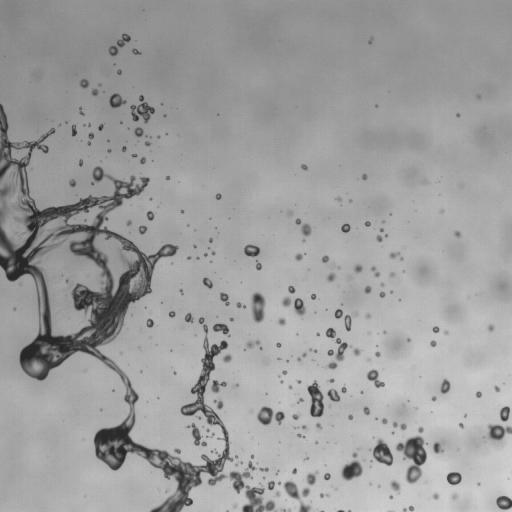droplet: (395, 435, 428, 484), (367, 437, 394, 466), (340, 447, 363, 481), (483, 423, 511, 449), (129, 94, 154, 123), (279, 296, 306, 317), (256, 406, 285, 425), (366, 368, 385, 388), (109, 93, 126, 108), (326, 388, 341, 402), (496, 496, 511, 510), (244, 244, 260, 257), (210, 380, 226, 393), (446, 472, 461, 485), (499, 406, 510, 421), (440, 378, 450, 394), (432, 441, 444, 453), (219, 292, 229, 306), (390, 480, 400, 494), (389, 251, 403, 260), (119, 104, 130, 115), (73, 115, 84, 126), (76, 126, 87, 137), (6, 130, 17, 141), (136, 145, 147, 156), (82, 164, 93, 175), (70, 167, 81, 178), (90, 186, 101, 197), (61, 195, 72, 206), (367, 225, 378, 236), (131, 234, 142, 245), (142, 244, 153, 255), (319, 263, 330, 274), (360, 268, 371, 279), (20, 272, 31, 283), (368, 277, 379, 288), (209, 286, 220, 297), (261, 303, 272, 314), (242, 307, 253, 318), (333, 319, 344, 330), (334, 326, 345, 337), (112, 332, 123, 343), (211, 332, 222, 343), (23, 333, 34, 344), (263, 339, 274, 350), (362, 346, 373, 357), (72, 349, 83, 360), (369, 358, 380, 369), (192, 363, 203, 374), (116, 384, 127, 395), (202, 389, 213, 400), (300, 411, 311, 422), (107, 417, 118, 428), (196, 417, 207, 428), (306, 427, 317, 438), (405, 427, 416, 438), (398, 431, 409, 442), (301, 438, 312, 449), (391, 449, 402, 460), (124, 451, 135, 462), (222, 461, 233, 472), (331, 467, 342, 478), (167, 476, 178, 487), (222, 476, 233, 487), (295, 478, 306, 489), (187, 486, 198, 497), (260, 491, 271, 502), (288, 498, 299, 509), (202, 277, 212, 289), (213, 397, 223, 409), (370, 266, 380, 277), (326, 271, 336, 282), (184, 312, 193, 324), (79, 78, 89, 88), (341, 223, 351, 233), (294, 253, 306, 261), (222, 353, 232, 362), (146, 211, 155, 220), (138, 225, 147, 234), (277, 317, 286, 326), (29, 132, 38, 141), (7, 164, 16, 173), (105, 187, 114, 196), (35, 201, 44, 210), (371, 220, 380, 229), (361, 265, 370, 274), (370, 286, 379, 295), (243, 296, 252, 305), (302, 297, 311, 306), (175, 311, 184, 320), (96, 343, 105, 352), (343, 347, 352, 356), (212, 354, 221, 363), (326, 368, 335, 377), (208, 370, 217, 379), (318, 384, 327, 393), (321, 395, 330, 404), (283, 413, 292, 422), (211, 424, 220, 433), (127, 429, 136, 438), (216, 441, 225, 450), (423, 444, 432, 453), (196, 445, 205, 454), (200, 445, 209, 454), (179, 453, 188, 462), (343, 455, 352, 464), (236, 464, 245, 473), (200, 471, 209, 480), (265, 471, 274, 480), (284, 472, 293, 481), (314, 474, 323, 483), (397, 475, 406, 484), (275, 483, 284, 492), (301, 496, 310, 505), (273, 500, 282, 509), (236, 301, 246, 309), (292, 412, 302, 420), (321, 255, 329, 264), (354, 264, 362, 273), (146, 318, 154, 327), (315, 422, 322, 432), (256, 259, 262, 270), (505, 416, 511, 427), (179, 505, 190, 511), (273, 489, 281, 497), (363, 406, 370, 415), (131, 48, 141, 54), (69, 179, 76, 187), (376, 234, 383, 242), (288, 285, 295, 293), (364, 285, 371, 293), (168, 310, 175, 318), (487, 324, 494, 332), (323, 472, 330, 480), (0, 267, 5, 278), (91, 88, 98, 95), (97, 123, 104, 130), (432, 326, 439, 333), (475, 391, 482, 398), (432, 492, 439, 499), (451, 493, 458, 500), (85, 85, 92, 92), (133, 98, 140, 105), (81, 115, 88, 122), (90, 125, 97, 132), (138, 135, 145, 142), (125, 147, 132, 154), (341, 194, 348, 201), (70, 197, 77, 204), (341, 198, 348, 205), (114, 205, 121, 212), (142, 218, 149, 225), (308, 221, 315, 228), (309, 227, 316, 234), (296, 231, 303, 238), (190, 249, 197, 256), (248, 255, 255, 262), (158, 256, 165, 263), (352, 258, 359, 265), (347, 266, 354, 273), (394, 269, 401, 276), (150, 273, 157, 280), (207, 274, 214, 281), (149, 279, 156, 286), (259, 289, 266, 296), (289, 292, 296, 299), (139, 295, 146, 302), (276, 295, 283, 302), (127, 301, 134, 308), (358, 310, 365, 317), (191, 313, 198, 320), (222, 318, 229, 325), (225, 320, 232, 327), (430, 332, 437, 339), (249, 334, 256, 341), (331, 343, 338, 350), (219, 348, 226, 355), (198, 350, 205, 357), (13, 351, 20, 358), (306, 351, 313, 358), (358, 352, 365, 359), (329, 354, 336, 361), (93, 357, 100, 364), (289, 357, 296, 364), (280, 362, 287, 369), (118, 363, 125, 370), (48, 367, 55, 374), (376, 374, 383, 381), (191, 375, 198, 382), (205, 381, 212, 388), (327, 382, 334, 389), (434, 389, 441, 396), (190, 393, 197, 400), (304, 393, 311, 400), (210, 403, 217, 410), (253, 406, 260, 413), (195, 409, 202, 416), (187, 414, 194, 421), (312, 415, 319, 422), (295, 418, 302, 425), (500, 420, 507, 427), (385, 421, 392, 428), (92, 425, 99, 432), (482, 427, 489, 434), (198, 428, 205, 435), (88, 431, 95, 438), (503, 432, 510, 439), (370, 440, 377, 447), (145, 442, 152, 449), (88, 443, 95, 450), (216, 446, 223, 453), (389, 446, 396, 453), (167, 448, 174, 455), (366, 451, 373, 458), (209, 453, 216, 460), (354, 455, 361, 462), (141, 458, 148, 465), (407, 458, 414, 465), (97, 459, 104, 466), (359, 461, 366, 468), (418, 463, 425, 470), (156, 468, 163, 475), (400, 468, 407, 475), (350, 475, 357, 482), (241, 476, 248, 483), (416, 477, 423, 484), (307, 483, 314, 490), (239, 486, 246, 493), (296, 486, 303, 493), (387, 487, 394, 494), (242, 497, 249, 504), (153, 500, 160, 507), (140, 156, 146, 164), (300, 164, 308, 170), (334, 195, 342, 201), (291, 506, 300, 511), (286, 210, 293, 216), (126, 219, 132, 226), (454, 231, 461, 237), (379, 291, 385, 298), (430, 340, 436, 347), (327, 349, 333, 356), (494, 385, 500, 392), (381, 417, 387, 424), (458, 422, 464, 429), (78, 158, 83, 166), (326, 378, 334, 383), (422, 179, 428, 185), (215, 193, 221, 199), (310, 293, 316, 299), (365, 313, 371, 319), (443, 329, 449, 335), (374, 351, 380, 357), (174, 448, 180, 454), (291, 468, 297, 474), (88, 132, 93, 139), (144, 141, 151, 146), (362, 173, 367, 180), (348, 413, 353, 420), (418, 426, 423, 433), (232, 502, 237, 509), (121, 146, 126, 152), (364, 221, 370, 226), (389, 272, 395, 277), (282, 369, 287, 375), (235, 507, 242, 511), (439, 208, 444, 213), (380, 282, 385, 287), (406, 337, 411, 342), (276, 342, 281, 347), (366, 357, 371, 362), (431, 396, 436, 401), (127, 31, 132, 36), (105, 52, 110, 57), (112, 54, 117, 59), (113, 65, 118, 70), (79, 74, 84, 79), (83, 74, 88, 79), (78, 86, 83, 91), (96, 86, 101, 91), (106, 92, 111, 97), (90, 94, 95, 99), (105, 101, 110, 106), (147, 101, 152, 106), (119, 103, 124, 108), (2, 106, 7, 111), (113, 106, 118, 111), (153, 106, 158, 111), (126, 107, 131, 112), (149, 113, 154, 118), (137, 114, 142, 119), (6, 118, 11, 123), (75, 126, 80, 131), (129, 128, 134, 133), (41, 129, 46, 134), (67, 129, 72, 134), (142, 129, 147, 134), (159, 132, 164, 137), (133, 135, 138, 140), (84, 136, 89, 141), (144, 136, 149, 141), (106, 143, 111, 148), (32, 146, 37, 151), (136, 154, 141, 159), (145, 157, 150, 162), (95, 161, 100, 166), (296, 161, 301, 166), (98, 162, 103, 167), (24, 165, 29, 170), (102, 168, 107, 173), (299, 168, 304, 173), (357, 172, 362, 177), (366, 174, 371, 179), (89, 176, 94, 181), (101, 176, 106, 181), (125, 177, 130, 182), (137, 180, 142, 185), (64, 181, 69, 186), (146, 181, 151, 186), (74, 183, 79, 188), (143, 185, 148, 190), (139, 190, 144, 195), (81, 194, 86, 199), (131, 194, 136, 199), (121, 197, 126, 202), (53, 202, 58, 207), (150, 207, 155, 212), (105, 212, 110, 217), (291, 215, 296, 220), (384, 215, 389, 220), (122, 218, 127, 223), (300, 219, 305, 224), (297, 223, 302, 228), (380, 223, 385, 228), (98, 224, 103, 229), (106, 225, 111, 230), (188, 225, 193, 230), (456, 226, 461, 231), (383, 228, 388, 233), (459, 229, 464, 234), (379, 231, 384, 236), (121, 232, 126, 237), (304, 235, 309, 240), (452, 235, 457, 240), (381, 236, 386, 241), (163, 239, 168, 244), (170, 240, 175, 245), (243, 240, 248, 245), (374, 240, 379, 245), (253, 241, 258, 246), (208, 242, 213, 247), (138, 246, 143, 251), (391, 247, 396, 252), (175, 248, 180, 253), (239, 248, 244, 253), (151, 249, 156, 254), (206, 249, 211, 254), (384, 251, 389, 256), (399, 251, 404, 256), (207, 253, 212, 258), (199, 254, 204, 259), (254, 254, 259, 259), (290, 254, 295, 259), (317, 254, 322, 259), (190, 255, 195, 260), (301, 255, 306, 260), (394, 255, 399, 260), (298, 258, 303, 263), (317, 258, 322, 263), (327, 258, 332, 263), (154, 261, 159, 266), (320, 261, 325, 266), (350, 263, 355, 268), (375, 266, 380, 271), (332, 268, 337, 273), (369, 270, 374, 275), (356, 271, 361, 276), (329, 280, 334, 285), (202, 284, 207, 289), (360, 285, 365, 290), (379, 286, 384, 291), (222, 288, 227, 293), (384, 290, 389, 295), (144, 292, 149, 297), (215, 293, 220, 298), (381, 296, 386, 301), (289, 302, 294, 307), (369, 310, 374, 315), (301, 313, 306, 318), (339, 315, 344, 320), (273, 316, 278, 321), (367, 317, 372, 322), (216, 318, 221, 323), (490, 320, 495, 325), (483, 322, 488, 327), (276, 323, 281, 328), (279, 324, 284, 329), (349, 324, 354, 329), (207, 326, 212, 331), (492, 327, 497, 332), (438, 328, 443, 333), (484, 328, 489, 333), (217, 329, 222, 334), (199, 336, 204, 341), (331, 336, 336, 341), (207, 341, 212, 346), (215, 341, 220, 346), (425, 341, 430, 346), (95, 344, 100, 349), (253, 344, 258, 349), (356, 344, 361, 349), (375, 346, 380, 351), (246, 347, 251, 352), (303, 347, 308, 352), (332, 349, 337, 354), (292, 354, 297, 359), (371, 354, 376, 359), (280, 358, 285, 363), (62, 359, 67, 364), (224, 361, 229, 366), (373, 365, 378, 370), (366, 366, 371, 371), (108, 368, 113, 373), (20, 370, 25, 375), (115, 374, 120, 379), (280, 374, 285, 379), (363, 376, 368, 381), (446, 376, 451, 381), (32, 377, 37, 382), (438, 378, 443, 383), (369, 379, 374, 384), (307, 380, 312, 385), (282, 381, 287, 386), (292, 381, 297, 386), (225, 382, 230, 387), (496, 382, 501, 387), (130, 383, 135, 388), (449, 383, 454, 388), (218, 385, 223, 390), (134, 388, 139, 393), (447, 388, 452, 393), (337, 390, 342, 395), (471, 393, 476, 398), (480, 393, 485, 398), (134, 400, 139, 405), (124, 402, 129, 407), (265, 402, 270, 407), (500, 402, 505, 407), (221, 404, 226, 409), (305, 406, 310, 411), (368, 406, 373, 411), (322, 407, 327, 412), (214, 408, 219, 413), (495, 408, 500, 413), (271, 409, 276, 414), (359, 410, 364, 415), (201, 415, 206, 420), (343, 415, 348, 420), (134, 416, 139, 421), (270, 416, 275, 421), (377, 416, 382, 421), (280, 418, 285, 423), (387, 419, 392, 424), (396, 420, 401, 425), (257, 421, 262, 426), (204, 422, 209, 427), (264, 423, 269, 428), (224, 425, 229, 430), (395, 425, 400, 430), (455, 425, 460, 430), (188, 426, 193, 431), (298, 428, 303, 433), (219, 432, 224, 437), (418, 432, 423, 437), (189, 436, 194, 441), (227, 436, 232, 441), (198, 437, 203, 442), (434, 437, 439, 442), (220, 439, 225, 444), (421, 443, 426, 448), (438, 443, 443, 448), (176, 444, 181, 449), (158, 445, 163, 450), (351, 447, 356, 452), (436, 451, 441, 456), (228, 452, 233, 457), (237, 455, 242, 460), (232, 457, 237, 462), (424, 457, 429, 462), (372, 458, 377, 463), (201, 460, 206, 465), (391, 460, 396, 465), (251, 461, 256, 466), (243, 462, 248, 467), (380, 462, 385, 467), (148, 464, 153, 469), (450, 467, 455, 472), (309, 469, 314, 474), (261, 470, 266, 475), (442, 472, 447, 477), (460, 474, 465, 479), (280, 479, 285, 484), (215, 480, 220, 485), (444, 481, 449, 486), (371, 482, 376, 487), (263, 483, 268, 488), (273, 483, 278, 488), (453, 483, 458, 488), (208, 484, 213, 489), (263, 487, 268, 492), (231, 488, 236, 493), (429, 489, 434, 494), (498, 491, 503, 496), (437, 495, 442, 500), (431, 498, 436, 503), (491, 498, 496, 503), (131, 153, 137, 157), (208, 237, 212, 243), (179, 289, 183, 295), (0, 182, 3, 189), (117, 69, 121, 74), (476, 94, 480, 99), (165, 176, 170, 180), (180, 209, 184, 214), (211, 250, 215, 255), (203, 252, 207, 257), (59, 273, 63, 278), (229, 317, 234, 321), (382, 330, 387, 334), (302, 352, 306, 357), (296, 357, 301, 361), (296, 379, 301, 383), (288, 384, 292, 389), (248, 409, 253, 413), (250, 454, 254, 459), (361, 457, 366, 461), (165, 488, 169, 493), (456, 113, 460, 117), (156, 135, 160, 139), (87, 141, 91, 145), (107, 149, 111, 153), (379, 228, 383, 232), (315, 332, 319, 336), (327, 404, 331, 408), (389, 495, 393, 499), (507, 507, 511, 511), (88, 122, 91, 127), (186, 256, 191, 259), (508, 410, 511, 415), (508, 494, 511, 499), (405, 508, 410, 511), (374, 104, 378, 107), (348, 199, 352, 202), (381, 220, 385, 223), (193, 244, 196, 248), (402, 269, 405, 273), (13, 307, 16, 311), (277, 357, 281, 360), (286, 359, 289, 363), (173, 371, 176, 375), (277, 374, 281, 377), (360, 390, 363, 394), (374, 417, 378, 420), (206, 428, 209, 432), (315, 440, 318, 444), (235, 455, 238, 459), (369, 459, 372, 463), (0, 201, 2, 206), (98, 83, 101, 86), (160, 102, 163, 105), (163, 114, 166, 117), (120, 121, 123, 124), (58, 123, 61, 126), (107, 139, 110, 142), (149, 197, 152, 200), (214, 226, 217, 229), (384, 234, 387, 237), (196, 256, 199, 259), (209, 260, 212, 263), (390, 290, 393, 293), (398, 298, 401, 301), (280, 380, 283, 383), (156, 396, 159, 399), (99, 408, 102, 411), (391, 431, 394, 434), (368, 465, 371, 468), (262, 476, 265, 479), (477, 482, 480, 485), (377, 484, 380, 487), (123, 30, 126, 33), (129, 35, 132, 38), (366, 37, 369, 40), (364, 40, 367, 43), (371, 40, 374, 43), (367, 43, 370, 46), (137, 48, 140, 51), (130, 52, 133, 55), (135, 53, 138, 56), (120, 71, 123, 74), (115, 73, 118, 76), (159, 99, 162, 102), (377, 102, 380, 105), (162, 103, 165, 106), (371, 103, 374, 106), (76, 104, 79, 107), (376, 106, 379, 109), (76, 109, 79, 112), (81, 109, 84, 112), (213, 112, 216, 115), (452, 113, 455, 116), (459, 113, 462, 116), (79, 114, 82, 117), (129, 114, 132, 117), (165, 115, 168, 118), (216, 115, 219, 118), (161, 116, 164, 119), (455, 116, 458, 119), (147, 118, 150, 121), (116, 120, 119, 123), (61, 121, 64, 124), (85, 122, 88, 125), (96, 123, 99, 126), (119, 123, 122, 126), (51, 124, 54, 127), (101, 127, 104, 130), (54, 129, 57, 132), (164, 129, 167, 132), (167, 132, 170, 135), (85, 133, 88, 136), (107, 136, 110, 139), (159, 136, 162, 139), (88, 138, 91, 141), (84, 142, 87, 145), (122, 142, 125, 145), (47, 145, 50, 148), (119, 145, 122, 148), (125, 145, 128, 148), (145, 145, 148, 148), (47, 149, 50, 152), (110, 150, 113, 153), (131, 150, 134, 153), (105, 151, 108, 154), (121, 151, 124, 154), (132, 156, 135, 159), (76, 160, 79, 163), (81, 163, 84, 166), (140, 163, 143, 166), (305, 163, 308, 166), (165, 172, 168, 175), (26, 173, 29, 176), (144, 174, 147, 177), (162, 175, 165, 178), (169, 175, 172, 178), (166, 179, 169, 182), (362, 179, 365, 182), (27, 183, 30, 186), (28, 187, 31, 190), (28, 192, 31, 195), (212, 193, 215, 196), (334, 194, 337, 197), (151, 195, 154, 198), (220, 195, 223, 198), (347, 196, 350, 199), (350, 196, 353, 199), (213, 197, 216, 200), (151, 198, 154, 201), (147, 199, 150, 202), (216, 199, 219, 202), (334, 199, 337, 202), (180, 206, 183, 209), (146, 208, 149, 211), (177, 209, 180, 212), (183, 209, 186, 212), (388, 209, 391, 212), (179, 212, 182, 215), (385, 212, 388, 215), (391, 212, 394, 215), (207, 214, 210, 217), (144, 215, 147, 218), (388, 215, 391, 218), (152, 217, 155, 220), (380, 217, 383, 220), (368, 218, 371, 221), (208, 219, 211, 222), (362, 219, 365, 222), (343, 220, 346, 223), (347, 221, 350, 224), (183, 222, 186, 225), (340, 222, 343, 225), (362, 224, 365, 227), (338, 225, 341, 228), (367, 225, 370, 228), (186, 226, 189, 229), (349, 227, 352, 230), (215, 228, 218, 231), (338, 228, 341, 231), (144, 230, 147, 233), (347, 230, 350, 233), (341, 231, 344, 234), (387, 233, 390, 236), (211, 240, 214, 243), (303, 241, 306, 244), (251, 242, 254, 245), (195, 243, 198, 246), (190, 245, 193, 248), (194, 247, 197, 250), (300, 251, 303, 254), (214, 252, 217, 255), (324, 252, 327, 255), (186, 253, 189, 256), (188, 258, 191, 261), (195, 259, 198, 262), (399, 260, 402, 263), (209, 262, 212, 265), (260, 262, 263, 265), (335, 262, 338, 265), (369, 264, 372, 267), (253, 267, 256, 270), (259, 268, 262, 271), (204, 274, 207, 277), (200, 277, 203, 280), (200, 281, 203, 284), (211, 281, 214, 284), (289, 282, 292, 285), (211, 285, 214, 288), (177, 286, 180, 289), (293, 286, 296, 289), (182, 289, 185, 292), (312, 290, 315, 293), (177, 291, 180, 294), (391, 292, 394, 295), (181, 294, 184, 297), (377, 295, 380, 298), (395, 296, 398, 299), (314, 297, 317, 300), (400, 297, 403, 300), (34, 298, 37, 301), (162, 300, 165, 303), (160, 303, 163, 306), (323, 305, 326, 308), (146, 306, 149, 309), (239, 306, 242, 309), (338, 306, 341, 309), (15, 308, 18, 311), (168, 308, 171, 311), (174, 312, 177, 315), (183, 312, 186, 315), (331, 312, 334, 315), (165, 313, 168, 316), (190, 313, 193, 316), (201, 314, 204, 317), (230, 314, 233, 317), (168, 316, 171, 319), (171, 316, 174, 319), (144, 317, 147, 320), (233, 317, 236, 320), (350, 317, 353, 320), (152, 319, 155, 322), (350, 320, 353, 323), (187, 321, 190, 324), (143, 323, 146, 326), (152, 323, 155, 326), (433, 323, 436, 326), (342, 325, 345, 328), (148, 326, 151, 329), (429, 326, 432, 329), (323, 328, 326, 331), (385, 328, 388, 331), (227, 330, 230, 333), (297, 330, 300, 333), (347, 330, 350, 333), (379, 330, 382, 333), (430, 330, 433, 333), (202, 331, 205, 334), (435, 331, 438, 334), (292, 332, 295, 335), (313, 332, 316, 335), (383, 333, 386, 336), (315, 335, 318, 338), (408, 335, 411, 338), (328, 336, 331, 339), (200, 340, 203, 343), (404, 340, 407, 343), (375, 341, 378, 344), (407, 341, 410, 344), (435, 342, 438, 345), (273, 343, 276, 346), (280, 343, 283, 346), (372, 343, 375, 346), (243, 345, 246, 348), (261, 345, 264, 348), (429, 345, 432, 348), (433, 345, 436, 348), (311, 346, 314, 349), (171, 347, 174, 350), (166, 348, 169, 351), (316, 349, 319, 352), (169, 351, 172, 354), (324, 351, 327, 354), (379, 351, 382, 354), (279, 355, 282, 358), (299, 355, 302, 358), (378, 355, 381, 358), (286, 356, 289, 359), (276, 359, 279, 362), (288, 359, 291, 362), (310, 360, 313, 363), (282, 367, 285, 370), (174, 368, 177, 371), (136, 369, 139, 372), (142, 369, 145, 372), (286, 369, 289, 372), (170, 372, 173, 375), (175, 372, 178, 375), (418, 372, 421, 375), (327, 376, 330, 379), (296, 377, 299, 380), (333, 377, 336, 380), (238, 382, 241, 385), (344, 384, 347, 387), (235, 386, 238, 389), (108, 388, 111, 391), (187, 388, 190, 391), (288, 388, 291, 391), (345, 388, 348, 391), (475, 388, 478, 391), (492, 388, 495, 391), (265, 389, 268, 392), (357, 389, 360, 392), (362, 389, 365, 392), (479, 389, 482, 392), (111, 391, 114, 394), (261, 391, 264, 394), (496, 391, 499, 394), (359, 393, 362, 396), (158, 394, 161, 397), (153, 396, 156, 399), (407, 396, 410, 399), (428, 396, 431, 399), (475, 396, 478, 399), (295, 397, 298, 400), (429, 399, 432, 402), (434, 399, 437, 402), (404, 400, 407, 403), (298, 401, 301, 404), (177, 407, 180, 410), (461, 412, 464, 415), (363, 413, 366, 416), (466, 414, 469, 417), (352, 416, 355, 419), (292, 418, 295, 421), (348, 419, 351, 422), (188, 422, 191, 425), (462, 422, 465, 425), (207, 432, 210, 435), (299, 436, 302, 439), (317, 439, 320, 442), (311, 440, 314, 443), (198, 443, 201, 446), (315, 443, 318, 446), (355, 444, 358, 447), (306, 453, 309, 456), (253, 454, 256, 457), (303, 454, 306, 457), (304, 459, 307, 462), (323, 460, 326, 463), (261, 465, 264, 468), (278, 467, 281, 470), (290, 467, 293, 470), (273, 469, 276, 472), (296, 469, 299, 472), (329, 472, 332, 475), (329, 475, 332, 478), (443, 476, 446, 479), (327, 478, 330, 481), (476, 479, 479, 482), (458, 481, 461, 484), (479, 482, 482, 485), (474, 483, 477, 486), (377, 487, 380, 490), (322, 491, 325, 494), (316, 493, 319, 496), (322, 495, 325, 498), (388, 498, 391, 501), (192, 500, 195, 503), (189, 503, 192, 506), (411, 503, 414, 506), (284, 506, 287, 509), (223, 507, 226, 510), (319, 507, 322, 510), (340, 507, 343, 510), (388, 507, 391, 510), (350, 508, 353, 511), (464, 413, 466, 417), (208, 217, 211, 219), (186, 224, 189, 226), (170, 262, 173, 264), (307, 268, 310, 270), (340, 303, 343, 305), (216, 315, 218, 318), (296, 332, 298, 335), (140, 370, 142, 373), (503, 382, 505, 385), (265, 392, 267, 395), (414, 407, 417, 409), (430, 411, 433, 413), (201, 425, 204, 427), (372, 436, 374, 439), (369, 482, 371, 485), (509, 476, 511, 479), (412, 509, 415, 511), (113, 63, 115, 65), (217, 113, 219, 115), (65, 121, 67, 123), (83, 124, 85, 126), (165, 133, 167, 135), (389, 213, 391, 215), (228, 217, 230, 219), (194, 229, 196, 231), (208, 247, 210, 249), (240, 281, 242, 283), (144, 306, 146, 308), (60, 309, 62, 311), (325, 308, 327, 310), (314, 311, 316, 313), (194, 334, 196, 336), (376, 344, 378, 346), (170, 349, 172, 351), (120, 352, 122, 354), (112, 389, 114, 391), (407, 399, 409, 401), (278, 401, 280, 403), (402, 403, 404, 405), (278, 441, 280, 443), (326, 441, 328, 443), (256, 462, 258, 464), (324, 464, 326, 466), (127, 127, 129, 128), (99, 160, 101, 161), (157, 206, 159, 207), (161, 301, 162, 303), (419, 376, 421, 377), (507, 478, 509, 479), (131, 314, 132, 315), (285, 499, 286, 500)
ligament: (306, 380, 324, 417), (185, 422, 207, 446), (108, 33, 130, 56), (250, 291, 265, 323), (295, 218, 311, 242), (212, 322, 230, 337), (134, 127, 151, 138), (293, 424, 309, 432), (392, 421, 406, 430), (291, 397, 304, 406), (71, 124, 77, 136), (328, 263, 340, 269), (402, 505, 414, 511), (319, 493, 330, 498), (79, 106, 84, 116), (341, 383, 346, 393), (206, 432, 214, 438), (308, 348, 317, 353), (234, 461, 243, 466), (368, 36, 373, 44), (297, 433, 305, 438), (303, 455, 309, 461), (279, 508, 291, 511), (232, 383, 238, 388), (336, 509, 351, 511), (331, 486, 337, 490), (275, 470, 279, 475), (225, 509, 229, 511), (387, 510, 395, 511), (312, 359, 315, 361), (332, 425, 334, 426)
